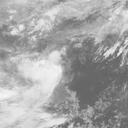cyclone: (19, 54, 63, 94)
